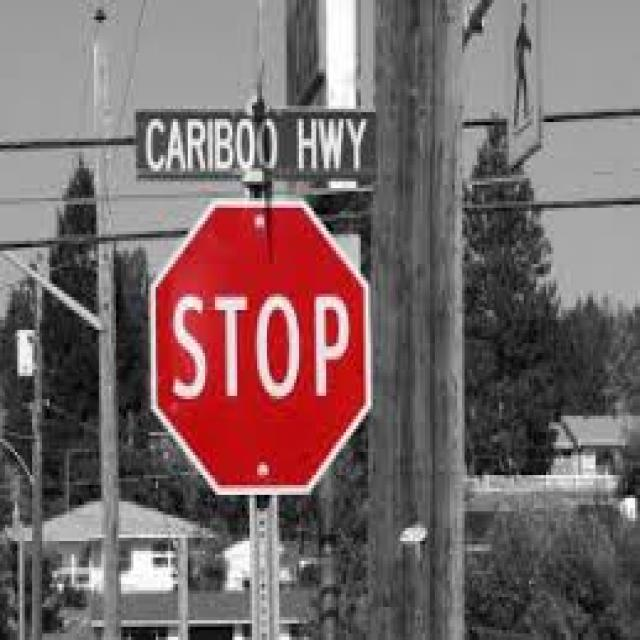stop-sign: (145, 186, 417, 486)
